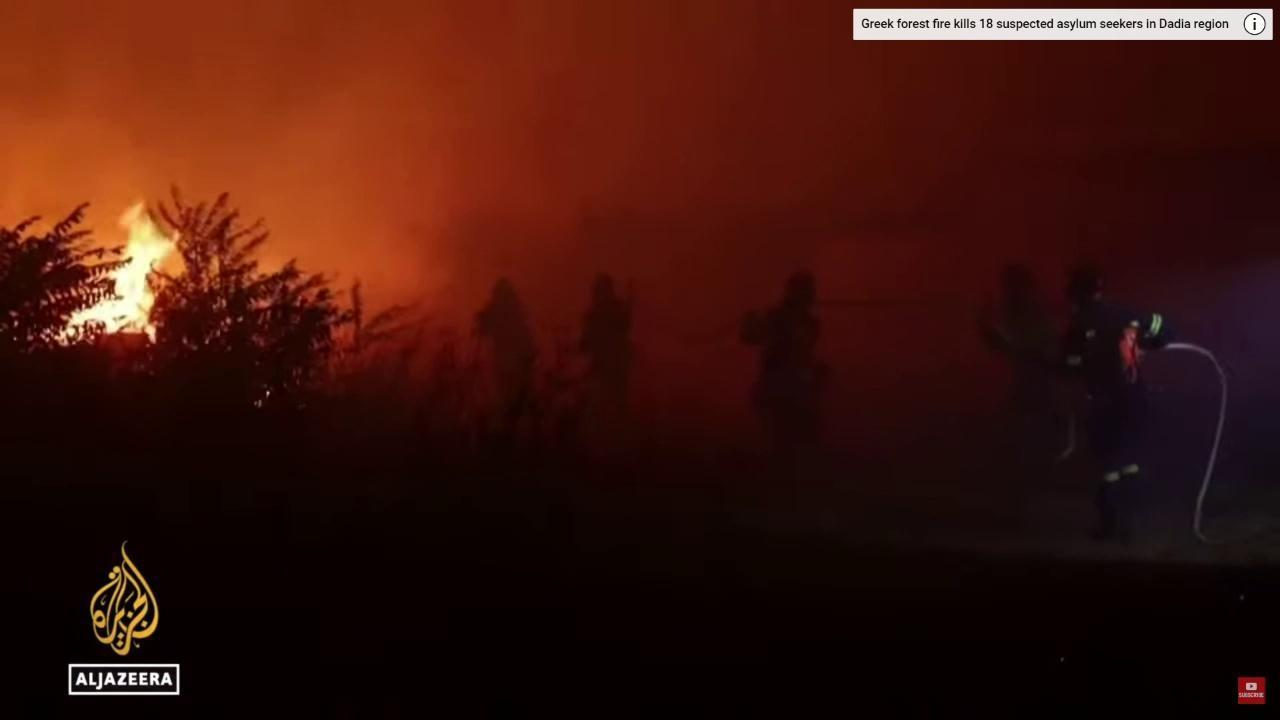fire: (63, 193, 201, 353)
smoke: (0, 0, 1280, 582)
